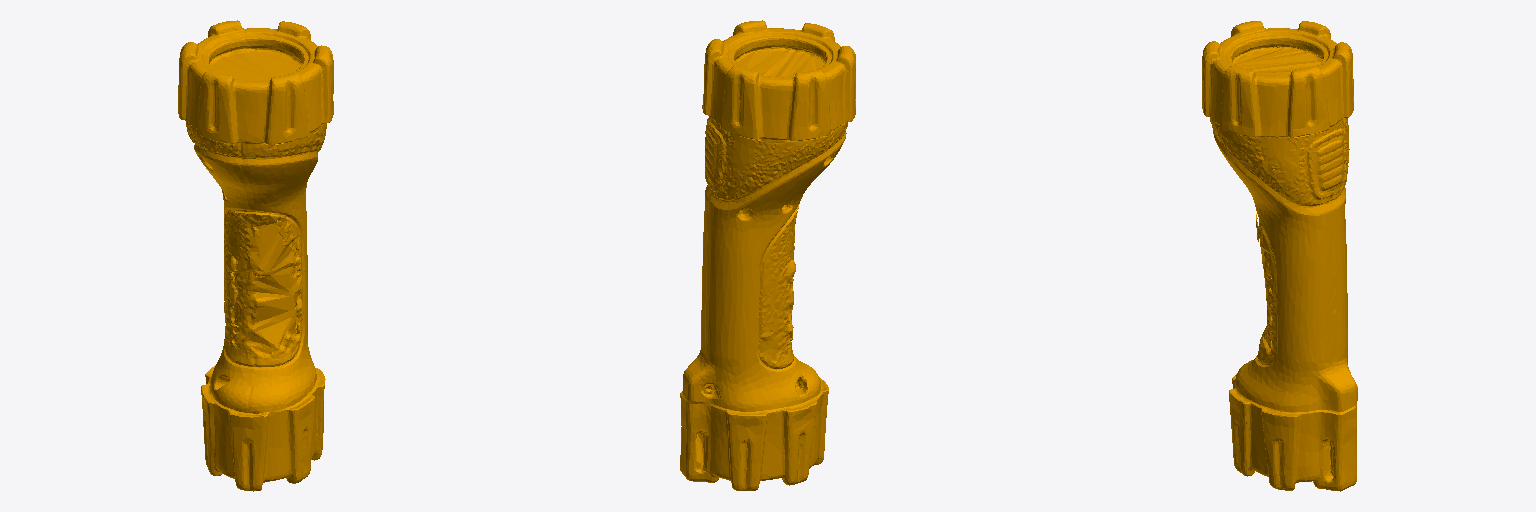
URDF robot description (HeavyDuty_Flashlight):
<?xml version="1.0"?>
<robot name="HeavyDuty_Flashlight">
  <link name="base_link">
    <contact>
      <lateral_friction value="1.0"/>
      <rolling_friction value="0.0"/>
      <contact_cfm value="0.0"/>
      <contact_erp value="1.0"/>
    </contact>
    <inertial>
      <mass value="0.752931167962"/>
      <inertia ixx="1" ixy="0" ixz="0" iyy="1" iyz="0" izz="1"/>
    </inertial>
    <visual>
      <geometry>
        <mesh filename="HeavyDuty_Flashlight_visual.obj"/>
      </geometry>
    </visual>
    <collision>
      <geometry>
        <mesh filename="HeavyDuty_Flashlight_collision.obj"/>
      </geometry>
    </collision>
  </link>
</robot>

--- Render facts (derived) ---
The picture shows the robot from 3 angles, left to right: view 1: azimuth 30°, elevation 25°; view 2: azimuth 150°, elevation 25°; view 3: azimuth 270°, elevation 25°; orthographic projection.
Model HeavyDuty_Flashlight with 1 links and 0 joints (none), rooted at base_link, posed all joints at 0.
Visible links, largest first — view 1: base_link; view 2: base_link; view 3: base_link.
Link boxes in pixels (x1,y1,x2,y2): base_link: (178, 20, 333, 491); base_link: (680, 20, 855, 490); base_link: (1202, 21, 1357, 491).
Bounding box of the posed robot: 0.0781 × 0.0784 × 0.2306 m (x, y, z).
1 mesh visuals loaded from 1 distinct referenced files (1 OBJ).